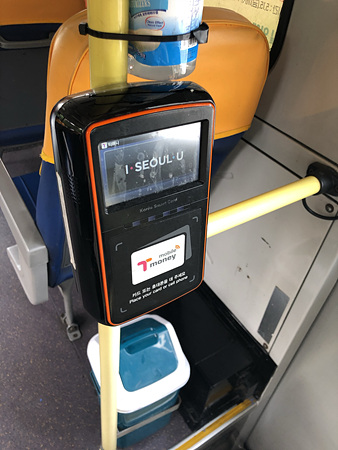terminal: (58, 80, 211, 324)
